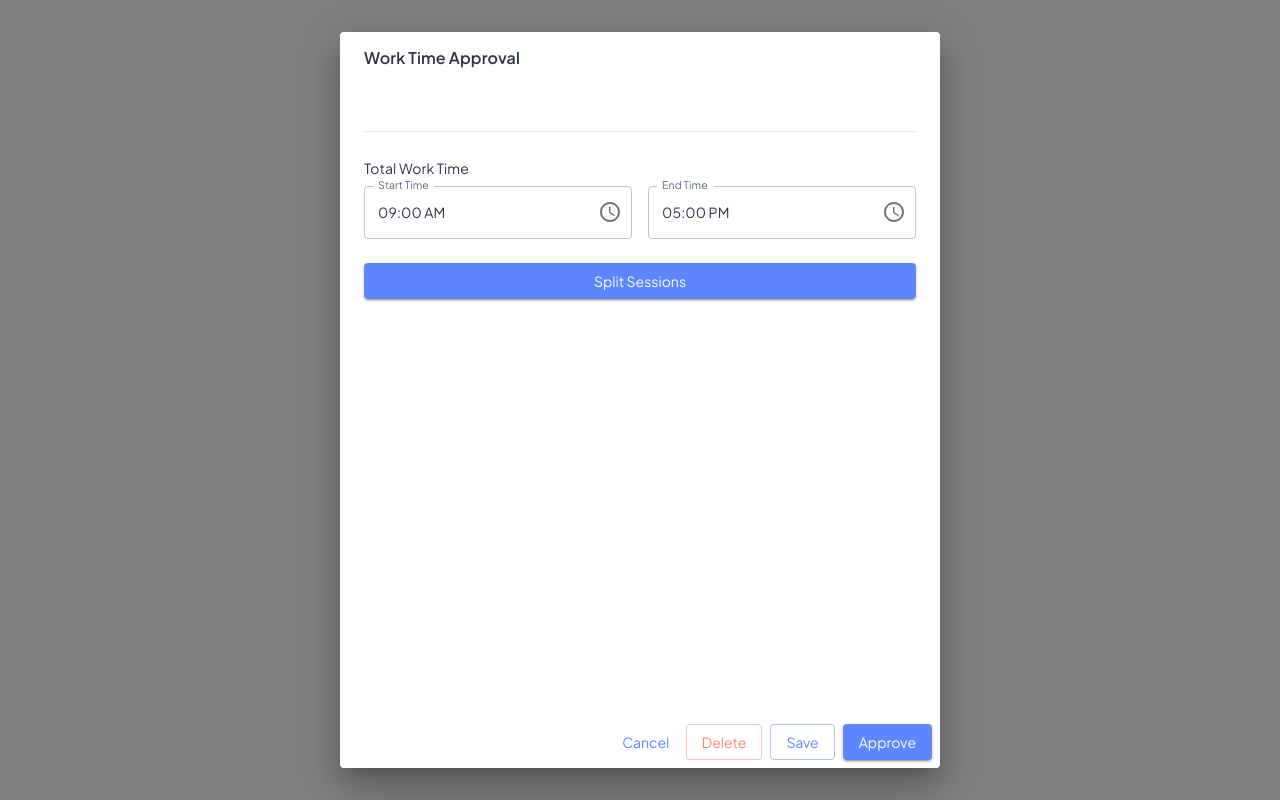
Test: ApprovalDialog › Session Management › should split and combine sessions
The image size is (1280, 800).
Click the button "Split Sessions": (640,281) [364,263,916,299]
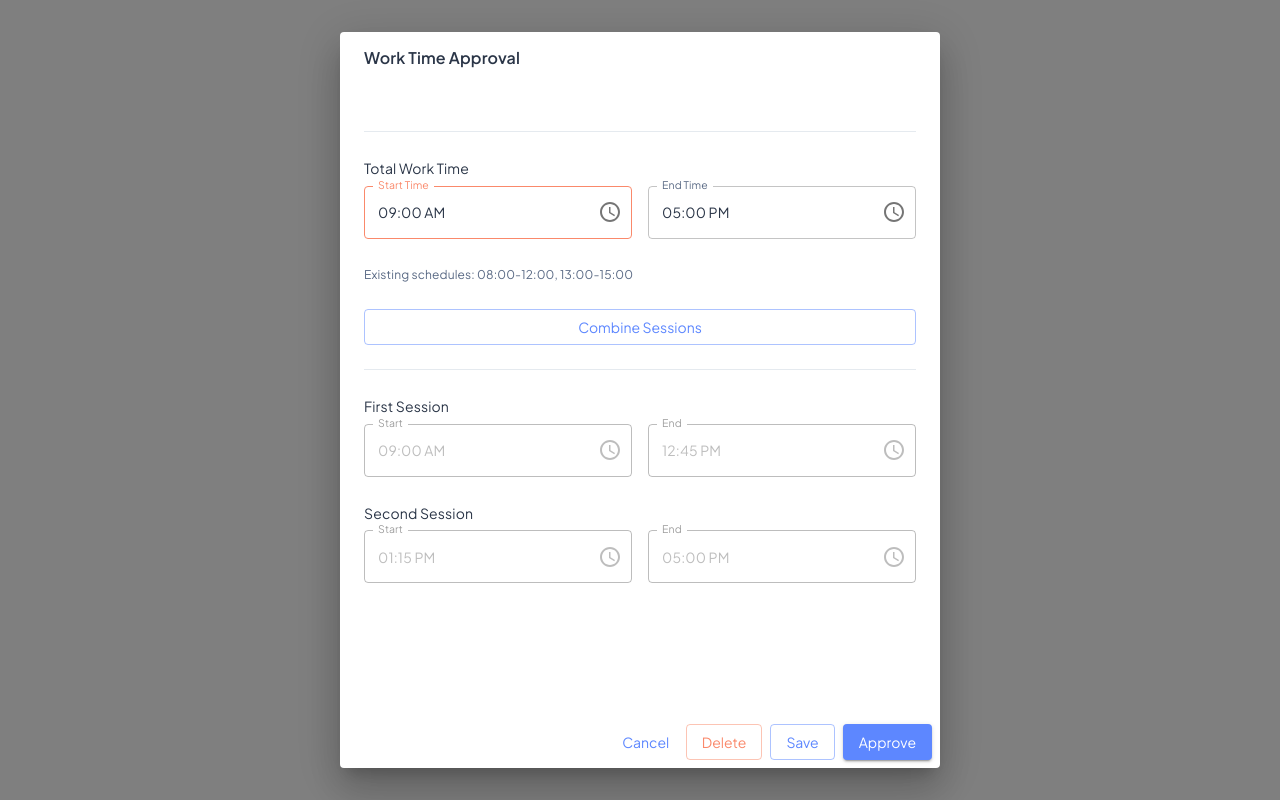
Result: the button "Combine Sessions" is shown
Result: the heading "First Session" is shown at [364,397,449,415]
Result: the heading "Second Session" is shown at [364,504,473,522]
Click the button "Combine Sessions": (640,327) [364,309,916,345]
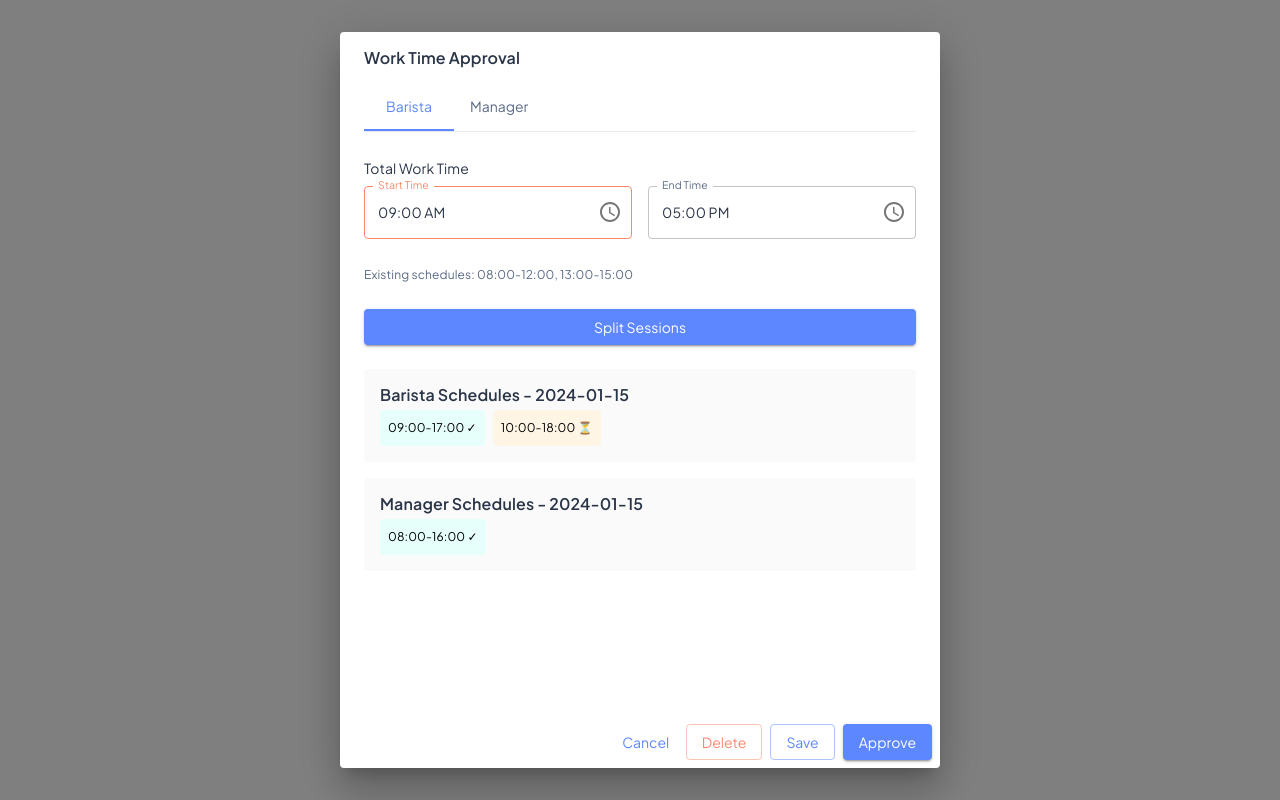
Result: the button "Split Sessions" is shown at [364,309,916,345]
Result: the heading "First Session" is gone
